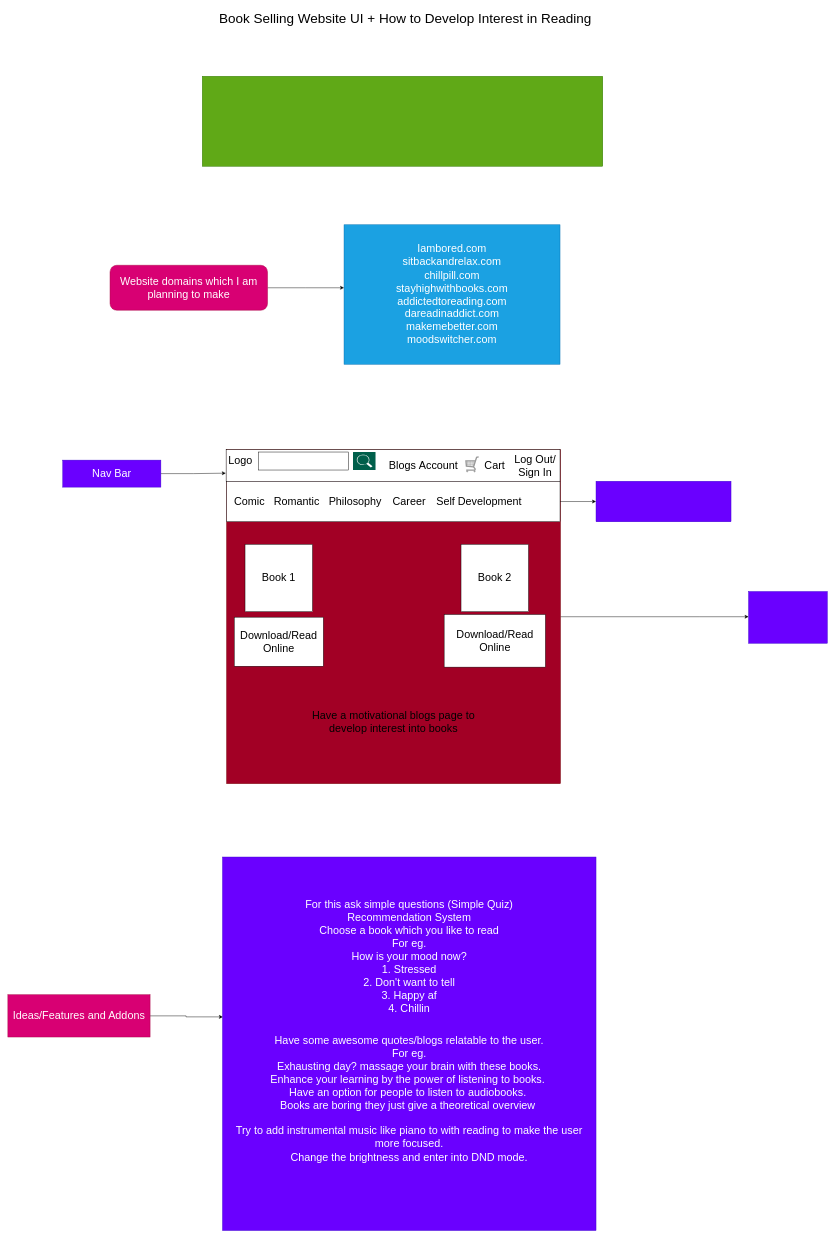
Some shapes in this 835 by 1238 pixel diagram are drawn without their labels. Each missing label, with the centre of its shape:
Book Listing Page: [787,617]
End goal is to deploy the whole idea as a web/software application: [402,121]
Genre: [663,501]
Search your book: [303,461]
